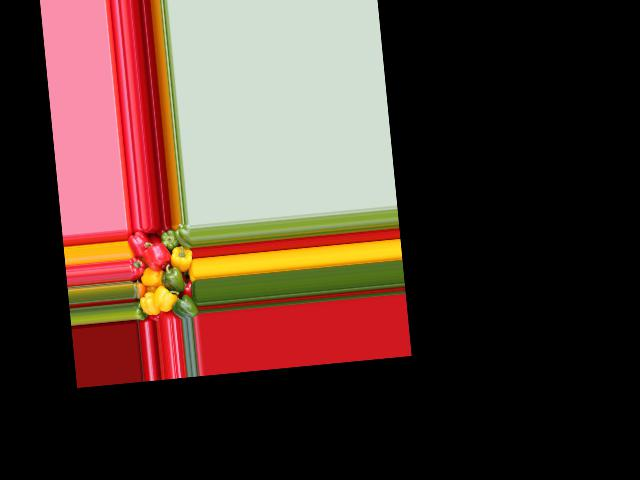bell_pepper: (133, 298, 146, 320)
